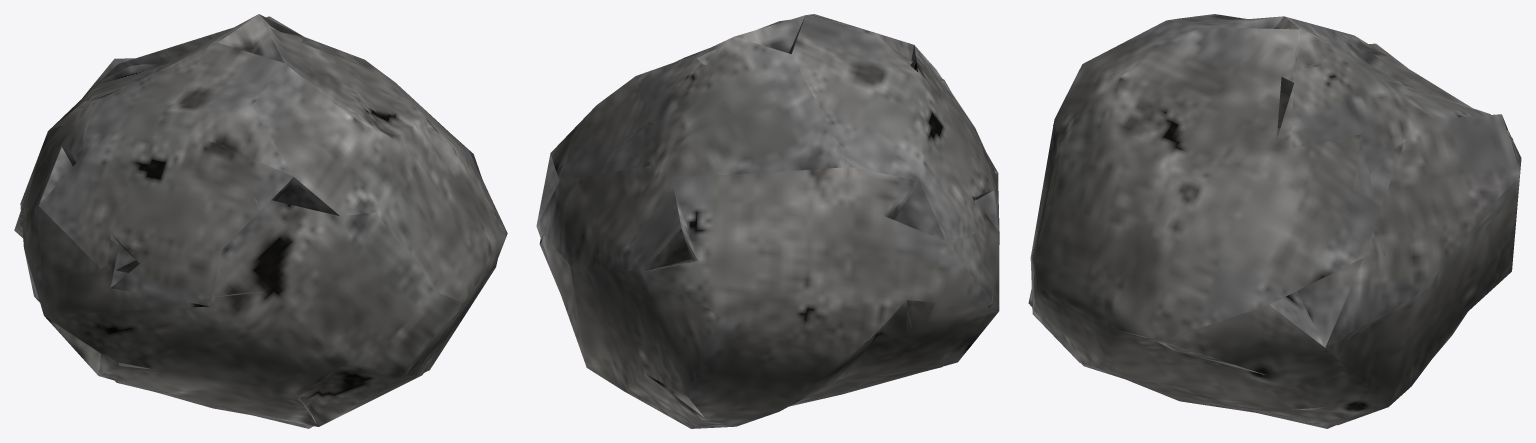
File: rock_94581385_lod1.glb
The picture shows the model from 3 angles, left to right: view 1: azimuth 30°, elevation 25°; view 2: azimuth 150°, elevation 25°; view 3: azimuth 270°, elevation 25°; orthographic projection. The views are drawn at different scales.
Bounding box in the file's own units: 2.42 × 1.89 × 2.31.
Materials: 1 (1 with a texture image).
